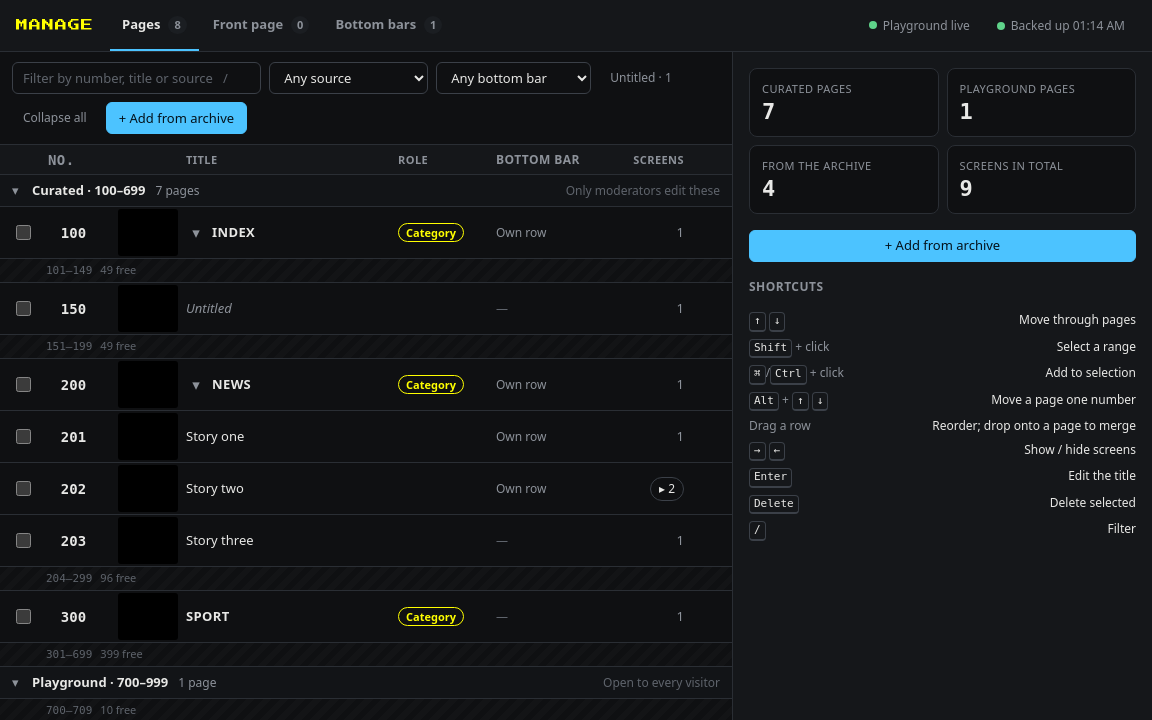
the page list › filters by number or title, and says how many are shown
This screenshot has width=1152, height=720.
Type "story" into the search field named "Filter pages" at (137, 78), box x1=12 y1=62 x2=261 y2=94
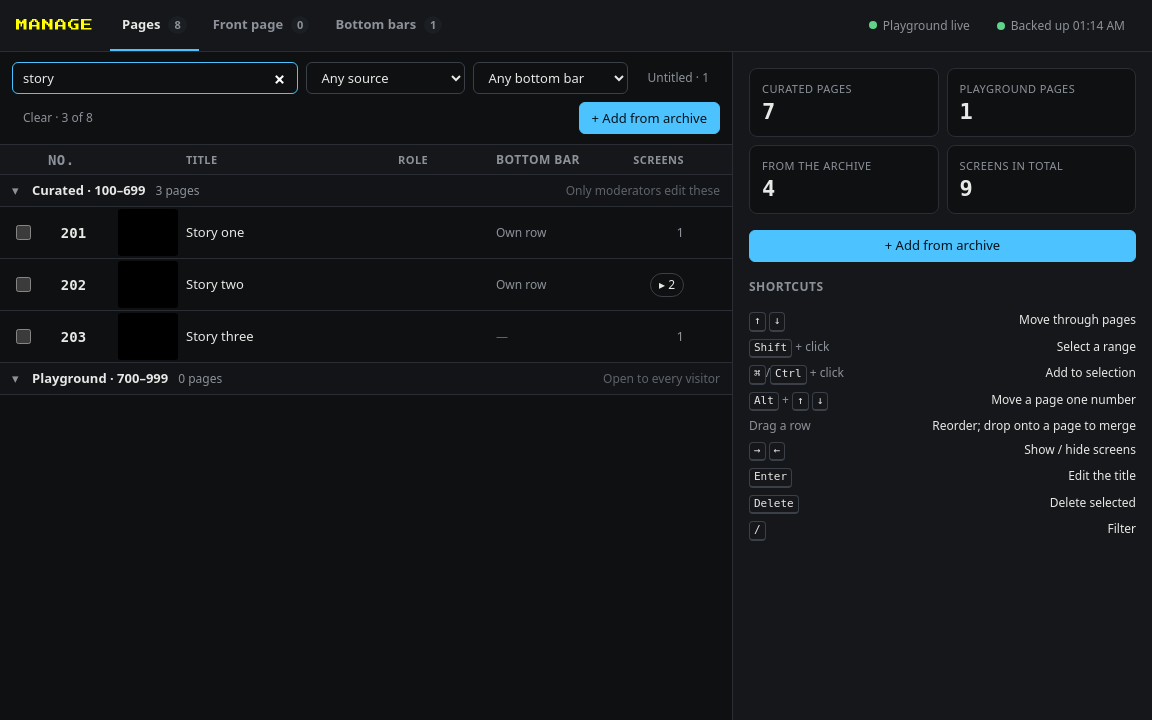
Result: the text "204–299" is gone
Result: the button "Clear · 3 of 8" is shown at x1=12 y1=104 x2=104 y2=132
